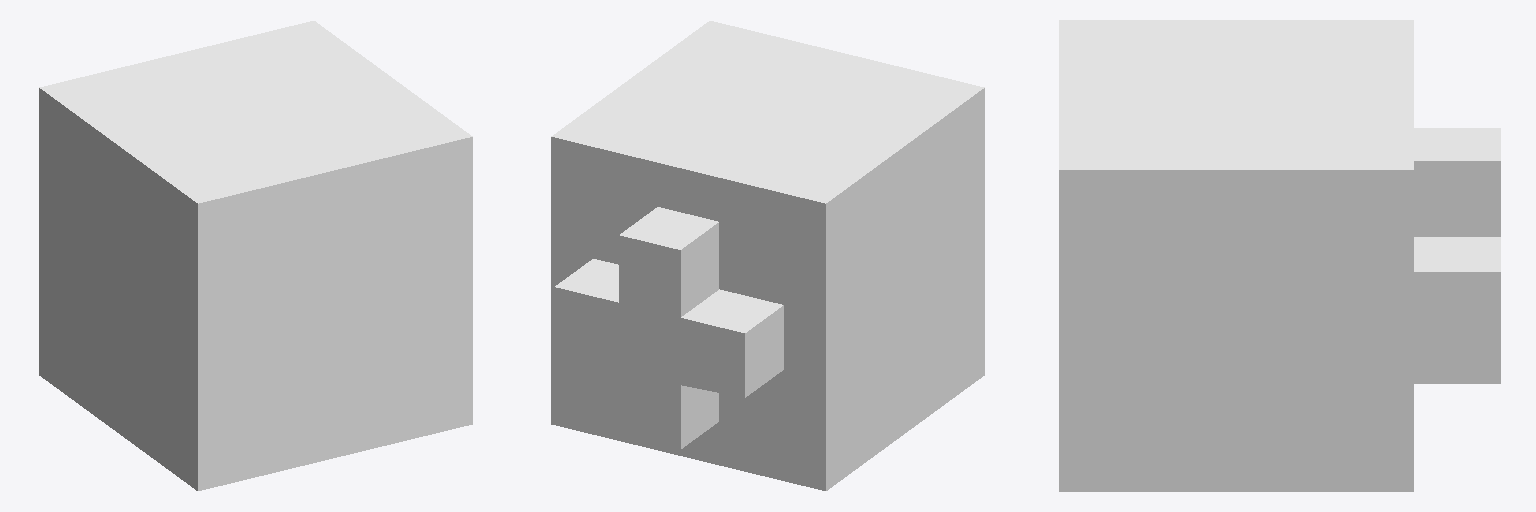
The robot description file, URDF, robot "Cross_cube_cap_preprocessed_convex":
<?xml version="1.0" ?>
<robot name="Cross_cube_cap_preprocessed_convex">
  <link name="baseLink">
    <contact>
    	<friction_anchor/>
    	   <lateral_friction value="1.0"/>
    </contact>
    <inertial>
      <origin rpy="0 0 0" xyz="0 0 0"/>
       <!-- mass controls penetration -->
       <mass value=".5"/>
       <inertia ixx="1e-4" ixy="0" ixz="0" iyy="1e-4" iyz="0" izz="1e-4"/>
    </inertial>
    <visual>
      <origin rpy="0 0 0" xyz="0 0 0"/>
      <geometry>
        <mesh filename="Cross_cube_cap_preprocessed_convex.obj"/>
      </geometry>
       <material name="white">
        <color rgba="1 1 1 1"/>
      </material>
    </visual>
    <collision>
      <origin rpy="0 0 0" xyz="0 0 0"/>
      <geometry>
        <mesh filename="Cross_cube_cap_preprocessed_convex.obj"/>
      </geometry>
    </collision>
  </link>
</robot>

--- Render facts (derived) ---
3 views of the same robot in one strip: view 1: azimuth 30°, elevation 25°; view 2: azimuth 150°, elevation 25°; view 3: azimuth 270°, elevation 25° (orthographic).
Model Cross_cube_cap_preprocessed_convex with 1 links and 0 joints (none), rooted at baseLink, posed every joint at zero.
Links seen in each view (by area): view 1: baseLink; view 2: baseLink; view 3: baseLink.
Boxes of the visible links, box(x1,y1,x2,y2) form: baseLink: box(39, 21, 472, 490); baseLink: box(551, 21, 984, 490); baseLink: box(1059, 20, 1500, 491).
Bounding box of the posed robot: 0.081 × 0.1008 × 0.081 m (x, y, z).
1 mesh visuals loaded from 1 distinct referenced files (1 OBJ).